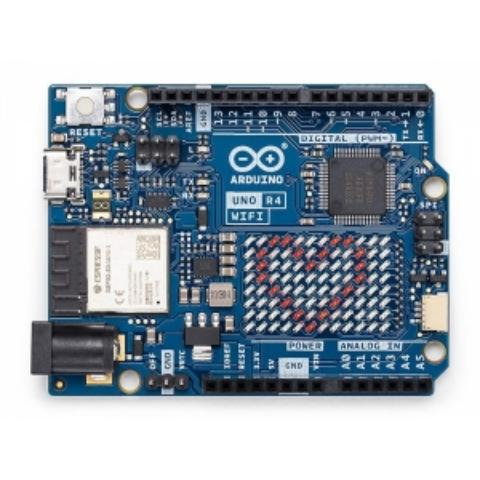Arduino-Uno: (28, 73, 456, 411)
